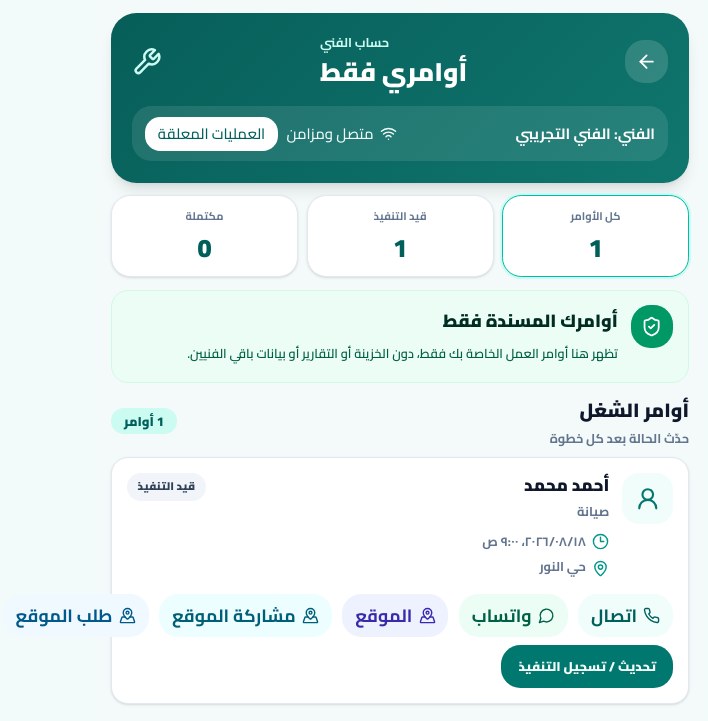
Test: واجهة الفني وأوامر العمل › تعرض حقلي صورة قبل وبعد الصيانة عند تسجيل التنفيذ المكتمل
The image size is (708, 721).
Click the button "تحديث / تسجيل التنفيذ". click: (587, 666)
box: [501,645,673,688]
(page scrolled)
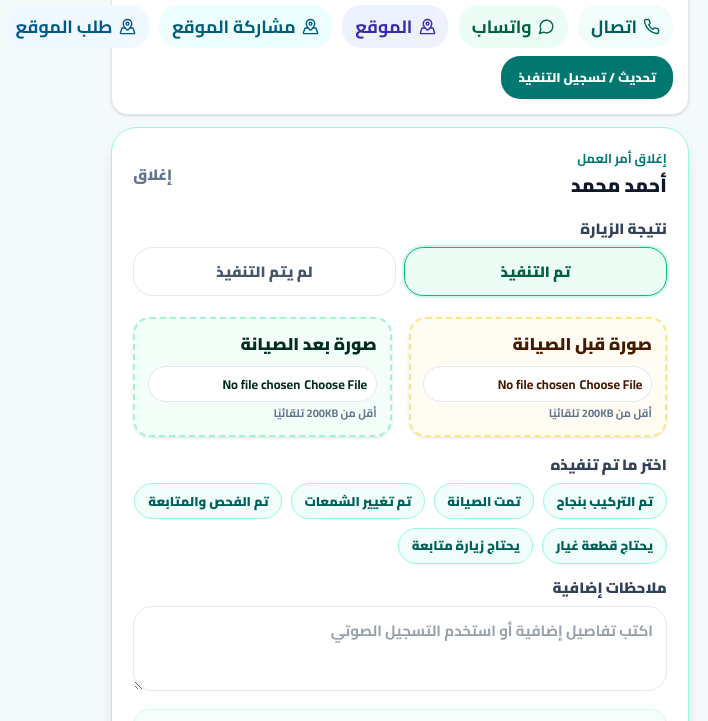
Check: the file field labelled "صورة قبل الصيانة" is shown, box [423,366,652,402]
Check: the file field labelled "صورة بعد الصيانة" is shown, box [148,366,377,402]
